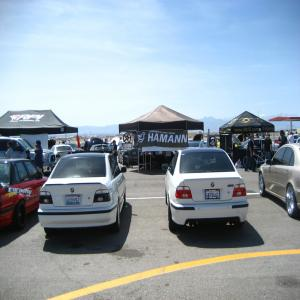Vehicle-registration-plate: (206, 189, 220, 200), (67, 196, 82, 206)
